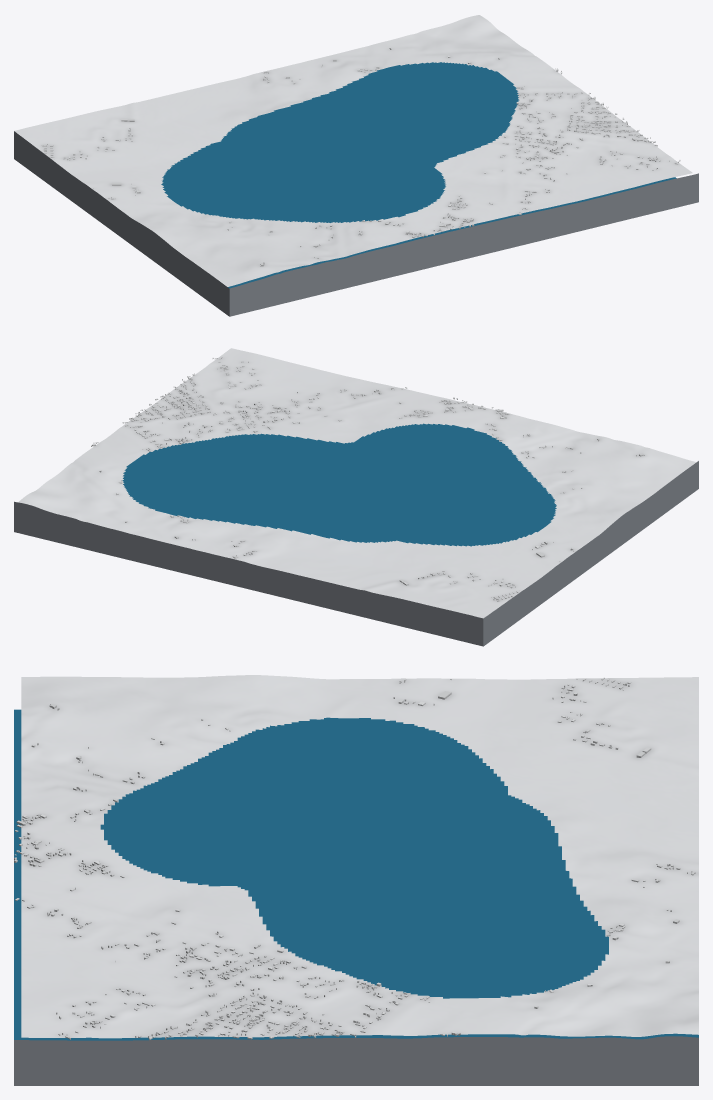
The model's file is far.glb.
3 views of the same model, one above another, from view 1: azimuth 30°, elevation 25°; view 2: azimuth 150°, elevation 25°; view 3: azimuth 270°, elevation 25° (orthographic). The views are drawn at different scales.
Visible parts, largest first — view 1: terrain, water, plinth, building; view 2: terrain, water, plinth, building; view 3: terrain, water, plinth, building.
Boxes of the visible parts, x1,y1,x2,y2 form: terrain: (14, 15, 692, 286); water: (161, 62, 676, 288); plinth: (14, 131, 698, 316); building: (41, 47, 680, 266); terrain: (18, 348, 696, 618); water: (122, 423, 556, 546); plinth: (14, 461, 698, 646); building: (91, 357, 644, 601); terrain: (21, 675, 698, 1038); water: (14, 709, 698, 1040); plinth: (14, 1036, 698, 1085); building: (14, 677, 695, 1039).
Bounding box in the file's own units: 3824 × 256 × 3040.
